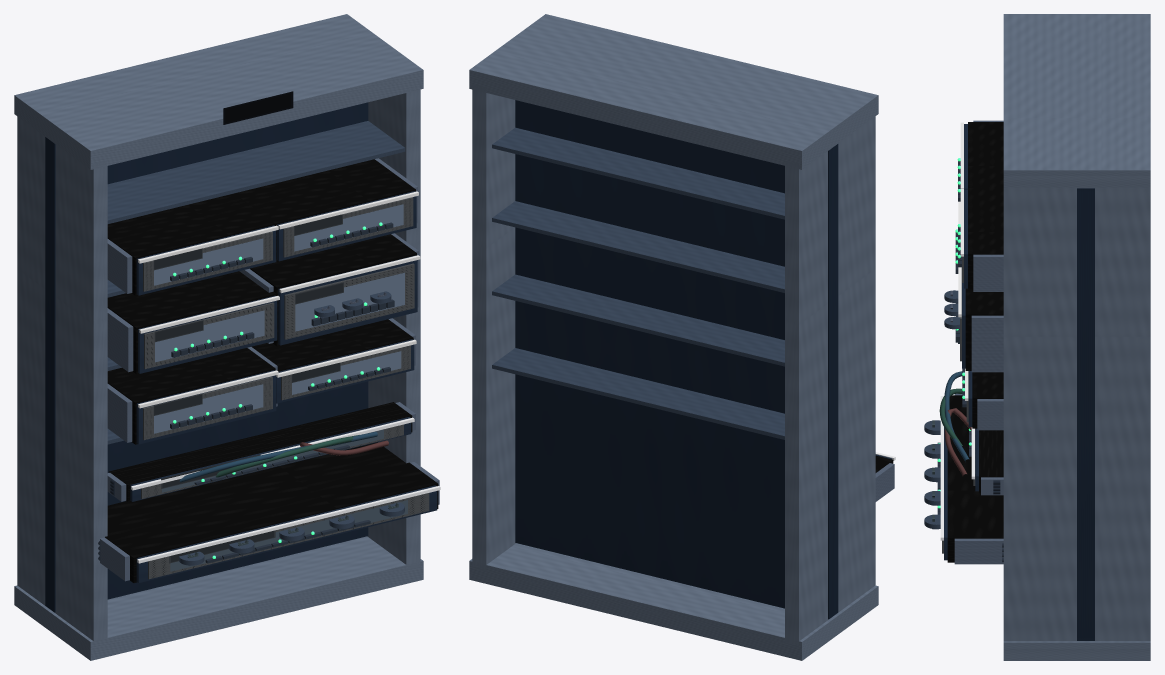
Rendered from rack.glb.
3 renders of one model, left to right at view 1: azimuth 30°, elevation 25°; view 2: azimuth 150°, elevation 25°; view 3: azimuth 270°, elevation 25°, orthographic. The views are drawn at different scales.
Visible parts, largest first — view 1: rack-frame, cooling-1-chassis, shelf-3, switch-1-chassis, router-1-chassis, cabling-1-chassis, server-1-chassis, storage-1-chassis, gpu-server-1-chassis, power-1-chassis, gpu-server-1-front-grille, gpu-server-1-vent-grille (+38 smaller); view 2: rack-frame, shelf-2, shelf-1, shelf-3, shelf-0; view 3: rack-frame, cooling-1-chassis, router-1-chassis, switch-1-chassis, gpu-server-1-ear-1, gpu-server-1-chassis, cooling-1-ear-1, cabling-1-chassis, router-1-ear-1, power-1-chassis, power-1-ear-1, cooling-1-stripe (+6 smaller).
Part boxes in pixels (bbox=[...]): rack-frame: bbox=[14, 14, 423, 660]; cooling-1-chassis: bbox=[105, 442, 438, 582]; shelf-3: bbox=[107, 121, 405, 223]; switch-1-chassis: bbox=[107, 193, 275, 295]; router-1-chassis: bbox=[234, 159, 415, 261]; cabling-1-chassis: bbox=[109, 402, 412, 501]; server-1-chassis: bbox=[107, 271, 276, 373]; storage-1-chassis: bbox=[107, 348, 275, 444]; gpu-server-1-chassis: bbox=[250, 234, 416, 345]; power-1-chassis: bbox=[251, 319, 413, 371]; gpu-server-1-front-grille: bbox=[284, 263, 414, 339]; gpu-server-1-vent-grille: bbox=[295, 272, 404, 331]; rack-frame: bbox=[469, 14, 878, 660]; shelf-2: bbox=[492, 201, 784, 292]; shelf-1: bbox=[492, 274, 784, 366]; shelf-3: bbox=[492, 127, 784, 219]; shelf-0: bbox=[492, 348, 784, 439]; rack-frame: bbox=[1003, 14, 1150, 660]; cooling-1-chassis: bbox=[947, 395, 1003, 562]; router-1-chassis: bbox=[968, 188, 1003, 290]; switch-1-chassis: bbox=[968, 122, 1003, 187]; gpu-server-1-ear-1: bbox=[971, 315, 1003, 372]; gpu-server-1-chassis: bbox=[965, 288, 1003, 370]; cooling-1-ear-1: bbox=[954, 538, 1003, 564]; cabling-1-chassis: bbox=[979, 430, 1003, 493]; router-1-ear-1: bbox=[973, 254, 1003, 291]; power-1-chassis: bbox=[972, 372, 1003, 428]; power-1-ear-1: bbox=[977, 399, 1003, 430]; cooling-1-stripe: bbox=[940, 396, 943, 540].
Size of what is drawn, in the model's own units: 1.66 by 2.49 by 1.02.
199 materials, 60 textured.
